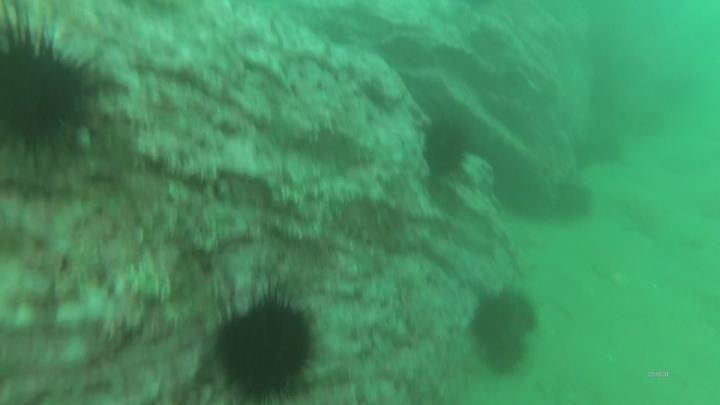echinus: (0, 15, 99, 163), (207, 286, 322, 404), (465, 284, 542, 376), (419, 115, 473, 180), (547, 178, 596, 223)
